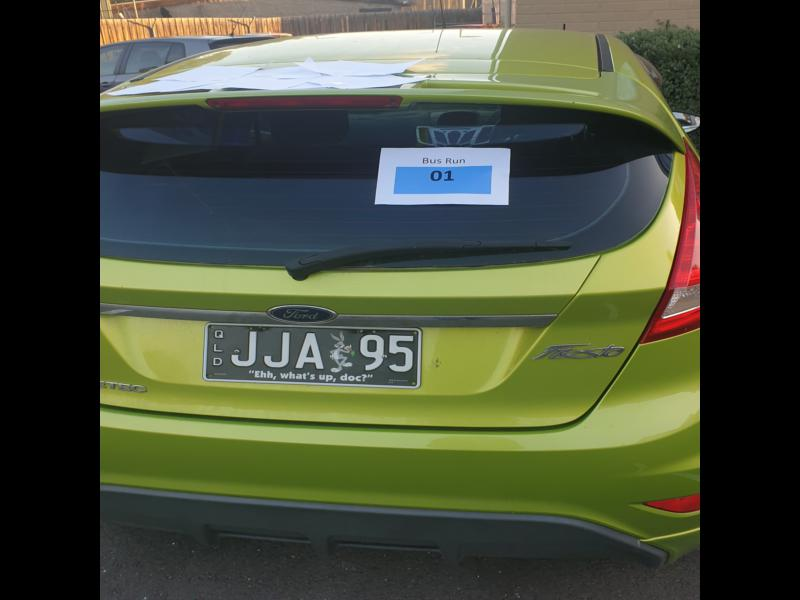BusRun: (394, 166, 492, 193)
PlateNo: (206, 321, 417, 385)
